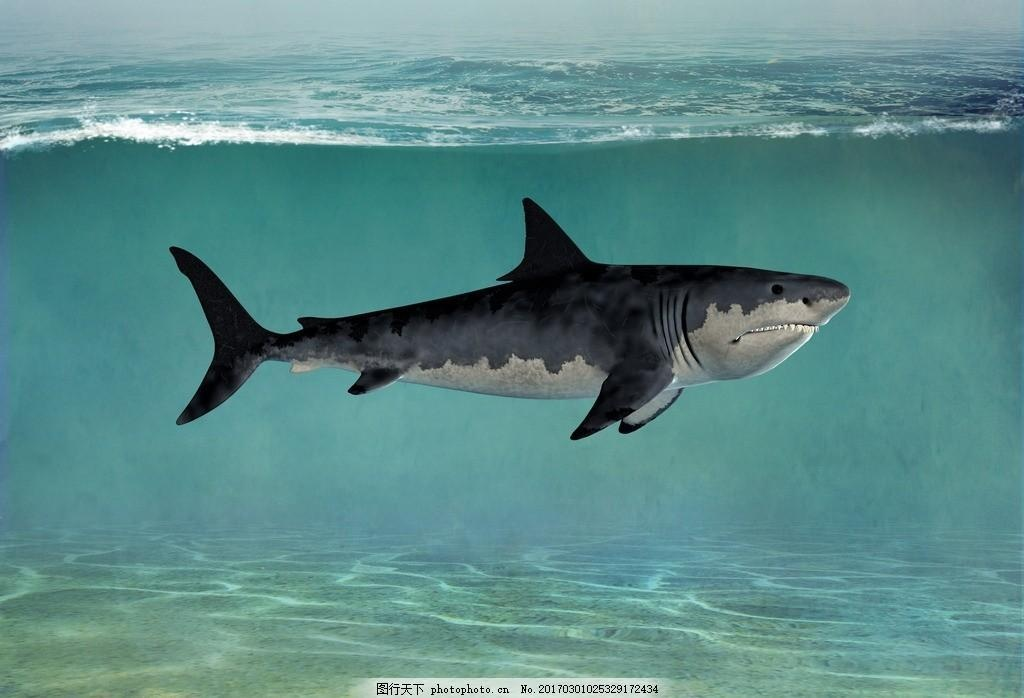fish: (172, 202, 854, 442)
